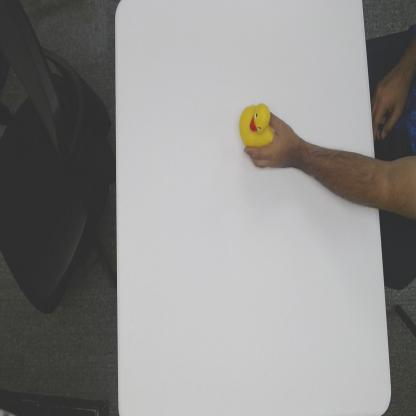Arm: (295, 136, 377, 208)
Duck: (239, 102, 274, 148)
Hand: (244, 112, 296, 169)
